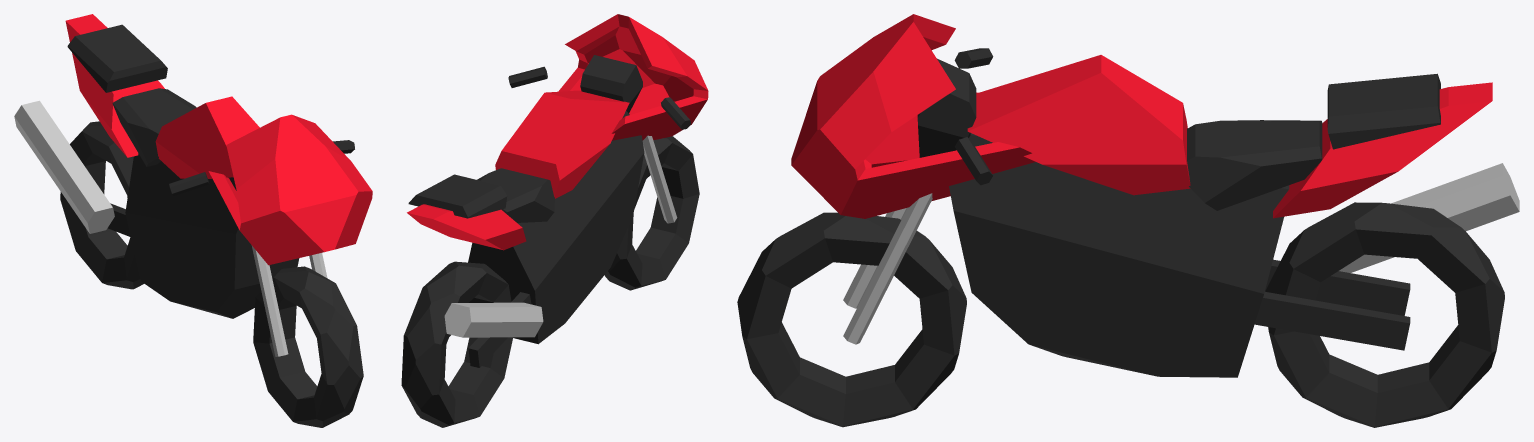
Rendered from motorcycle.glb.
3 views of the same model, side by side, from view 1: azimuth 30°, elevation 25°; view 2: azimuth 150°, elevation 25°; view 3: azimuth 270°, elevation 25° (orthographic). The views are drawn at different scales.
Parts seen in each view (by area): view 1: test.008_test.041, test.006_test.028, test.005_test.025, test.003_test.025, test_test.001, test.007_test.029, test.004_test.014, test.002_test.010, test.001_test.017, test.012_test.047, test.009_test.042, Cube_Cube.004; view 2: test.006_test.028, test.003_test.025, test.008_test.041, test_test.001, test.005_test.025, test.007_test.029, test.001_test.017, test.004_test.014, test.002_test.010, test.011_test.046, test.012_test.047, Cube_Cube.004 (+2 smaller); view 3: test.006_test.028, test.003_test.025, test.005_test.025, test.008_test.041, test_test.001, test.002_test.010, test.001_test.017, test.004_test.014, Cube.002_Cube.004, test.007_test.029, test.011_test.046, Cube_Cube.004 (+3 smaller).
Boxes of the visible parts, x1,y1,x2,y2 form: test.008_test.041: [208, 114, 372, 265]; test.006_test.028: [125, 153, 299, 318]; test.005_test.025: [253, 266, 363, 427]; test.003_test.025: [60, 121, 143, 289]; test_test.001: [155, 96, 259, 178]; test.007_test.029: [14, 100, 114, 233]; test.004_test.014: [67, 24, 167, 92]; test.002_test.010: [112, 88, 196, 166]; test.001_test.017: [65, 14, 164, 157]; test.012_test.047: [251, 245, 288, 356]; test.009_test.042: [169, 172, 209, 196]; Cube_Cube.004: [108, 203, 130, 236]; test.006_test.028: [468, 111, 644, 344]; test.003_test.025: [401, 261, 513, 427]; test.008_test.041: [558, 14, 708, 140]; test_test.001: [495, 90, 629, 198]; test.005_test.025: [604, 136, 699, 290]; test.007_test.029: [444, 302, 543, 337]; test.001_test.017: [407, 204, 526, 250]; test.004_test.014: [408, 174, 507, 218]; test.002_test.010: [477, 168, 554, 222]; test.011_test.046: [580, 55, 642, 113]; test.012_test.047: [642, 135, 677, 223]; Cube_Cube.004: [468, 292, 531, 367]; test.006_test.028: [949, 132, 1289, 377]; test.003_test.025: [1265, 202, 1504, 427]; test.005_test.025: [737, 212, 966, 427]; test.008_test.041: [791, 14, 1035, 218]; test_test.001: [967, 55, 1190, 195]; test.002_test.010: [1187, 120, 1322, 210]; test.001_test.017: [1273, 82, 1492, 218]; test.004_test.014: [1327, 73, 1440, 149]; Cube.002_Cube.004: [1254, 291, 1410, 350]; test.007_test.029: [1339, 163, 1519, 272]; test.011_test.046: [917, 58, 976, 157]; Cube_Cube.004: [1265, 259, 1410, 315].
Size of the model in its own units: 3.57 by 5.29 by 9.36.
